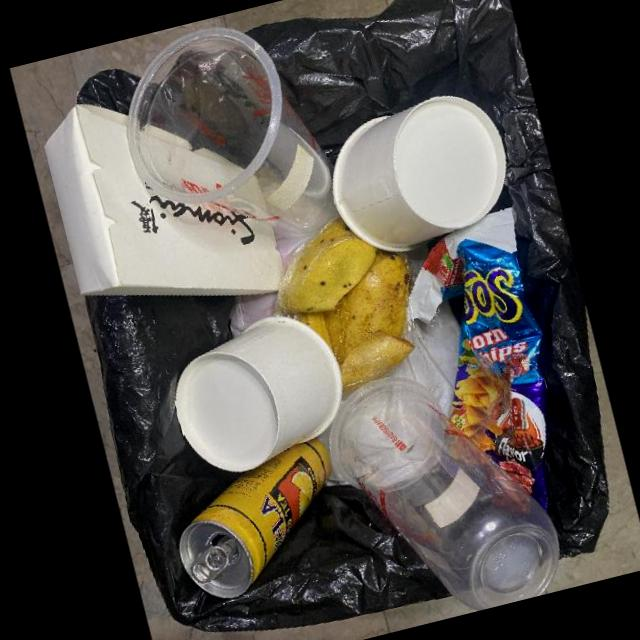bao_bi_thuc_pham: (408, 206, 547, 509)
carton: (43, 102, 282, 294), (331, 94, 506, 251), (173, 313, 342, 470)
hop_nhua: (328, 376, 559, 610), (126, 25, 338, 234)
nhom: (178, 436, 331, 597)
vo_trai_cay: (275, 215, 416, 392)
